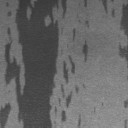red iron: (0, 0, 78, 128), (102, 0, 128, 62), (82, 40, 88, 62), (77, 114, 82, 128), (72, 28, 76, 40), (124, 100, 128, 108), (83, 0, 87, 6), (124, 120, 126, 128)
